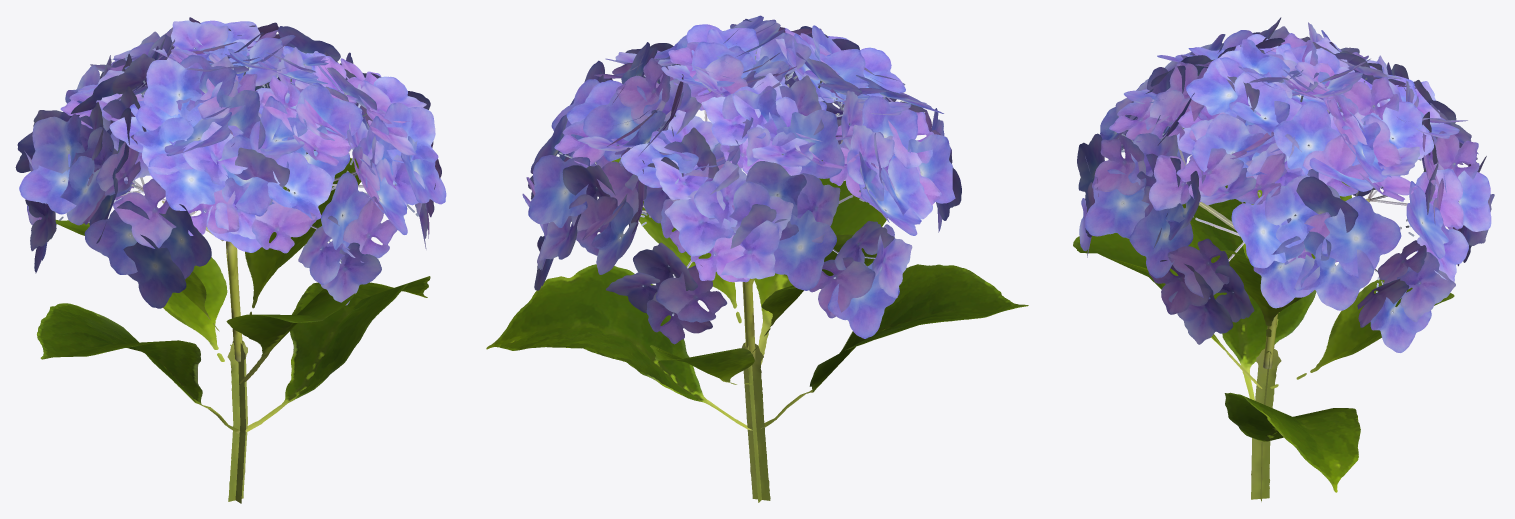
Rendered from fleur_4.fbx.
3 renders of one model, left to right at view 1: azimuth 30°, elevation 25°; view 2: azimuth 150°, elevation 25°; view 3: azimuth 270°, elevation 25°, orthographic. The views are drawn at different scales.
Visible parts, largest first — view 1: _0p57_Var10_LOD2; view 2: _0p57_Var10_LOD2; view 3: _0p57_Var10_LOD2.
Part boxes in pixels (left/top/right/bottom): _0p57_Var10_LOD2: left=15, top=17, right=446, bottom=503; _0p57_Var10_LOD2: left=486, top=15, right=1028, bottom=502; _0p57_Var10_LOD2: left=1073, top=17, right=1494, bottom=501.
Size of the model in its own units: 30.61 by 28.41 by 24.52.
